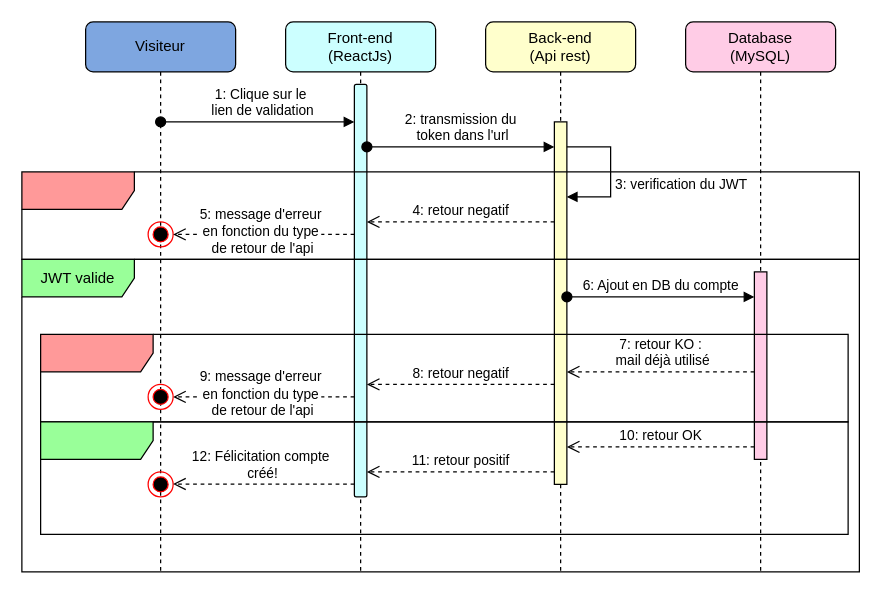
The diagram is 881 pixels wide and 594 high, and some of its shapes have lost their labels. The shapes that lost their labels are listed below. From the top down, each one's box as (x1, y1, x2, y2) in pixels, then its label:
(21, 171, 859, 259): JWT non valide
(39, 333, 848, 422): Ajout en DB KO
(39, 421, 848, 534): Ajout en DB OK
